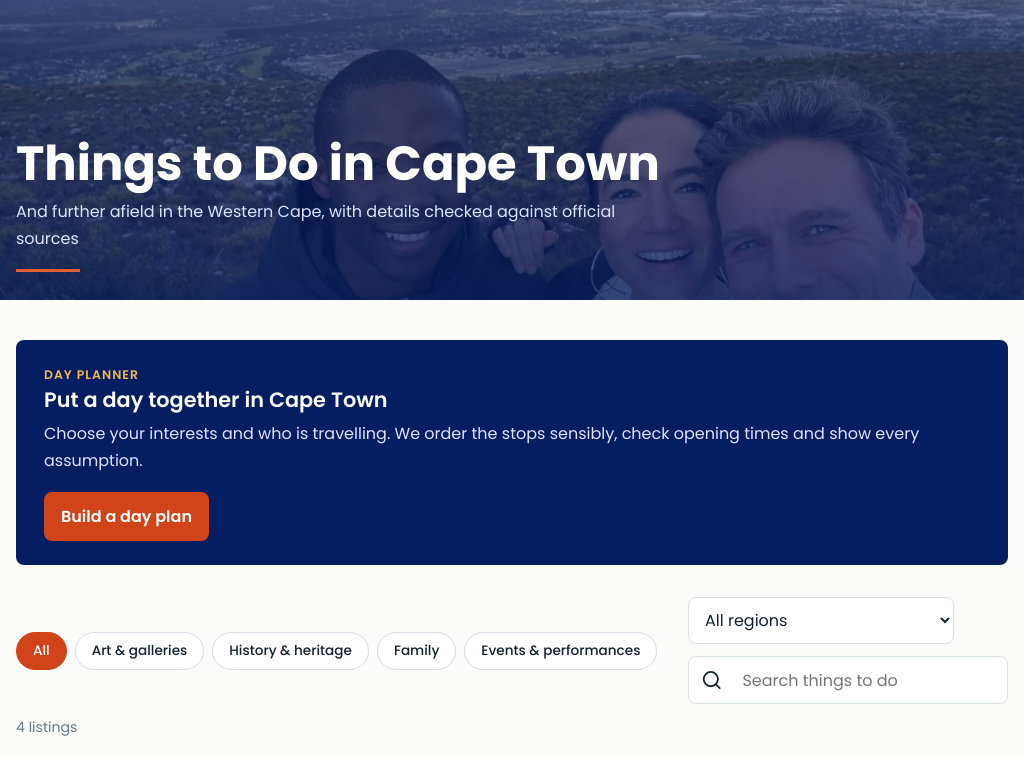
Explore Cape Town › groups listings by region with Cape Town first, keeps events separate, shows pictures and no prices, and filters by category
The width and height of the screenshot is (1024, 758).
Click the button "History & heritage" at (291, 650), box left=212, top=632, right=369, bottom=670
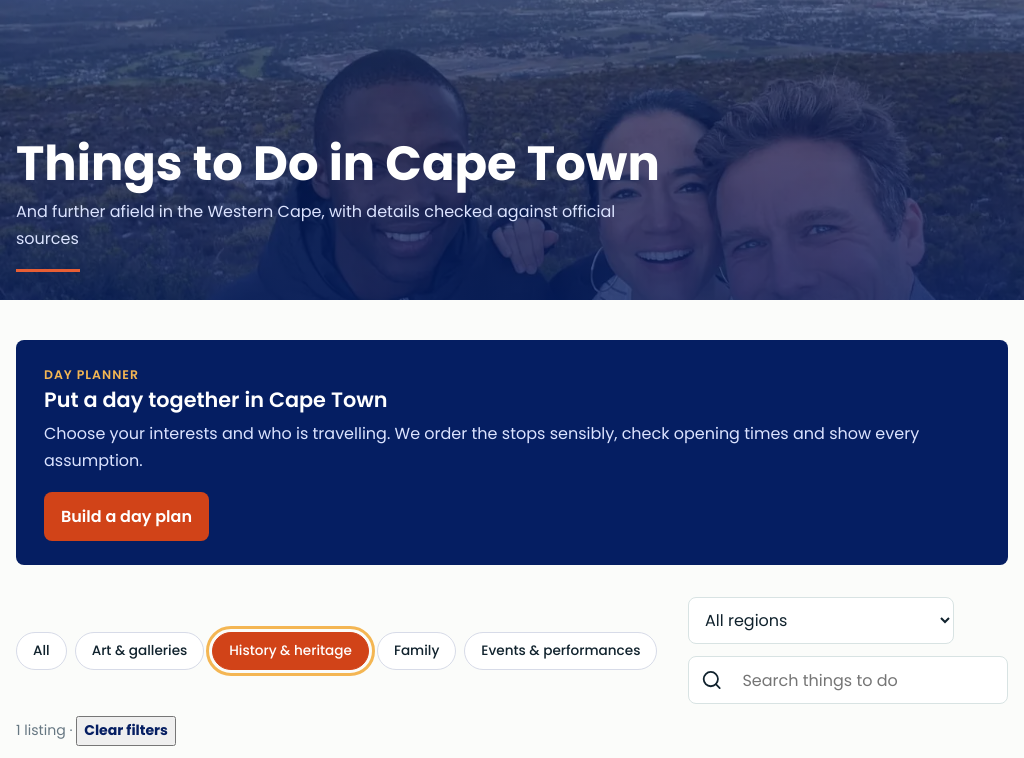
Check: the text "1 listing · Clear filters" is shown, box left=16, top=716, right=176, bottom=746
Select "Cape Town" in the dropdown named "Region" at (821, 620), box left=688, top=597, right=954, bottom=644
(page scrolled)
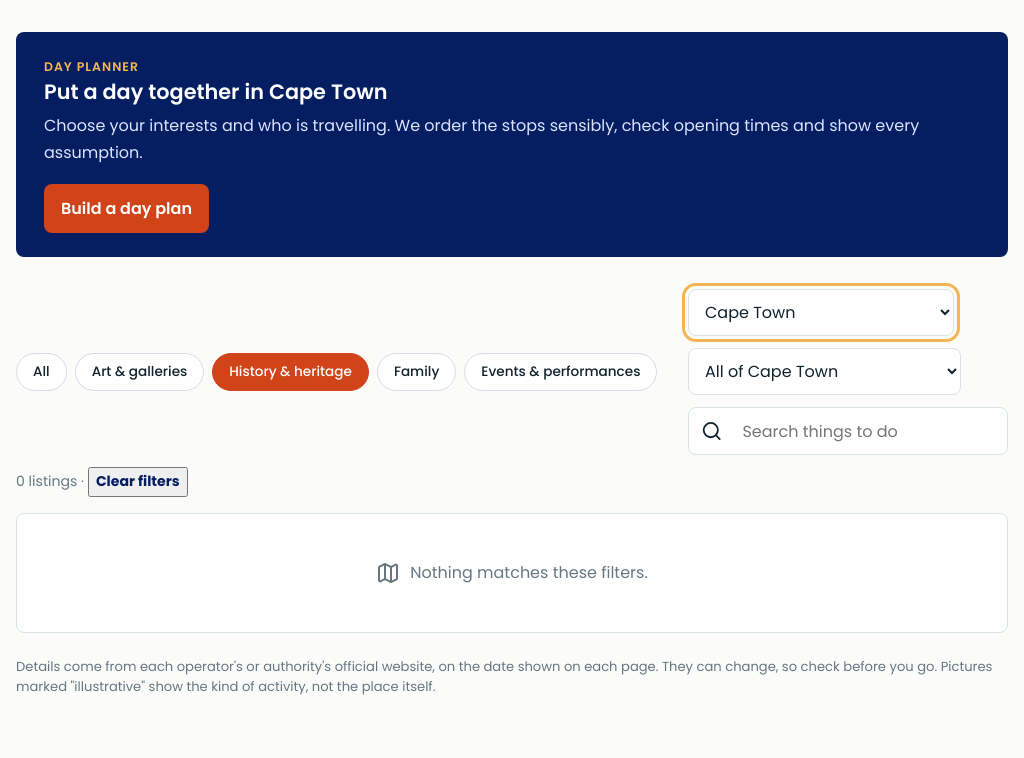
Check: the text "Nothing matches these filters." is shown, box left=410, top=560, right=648, bottom=586
